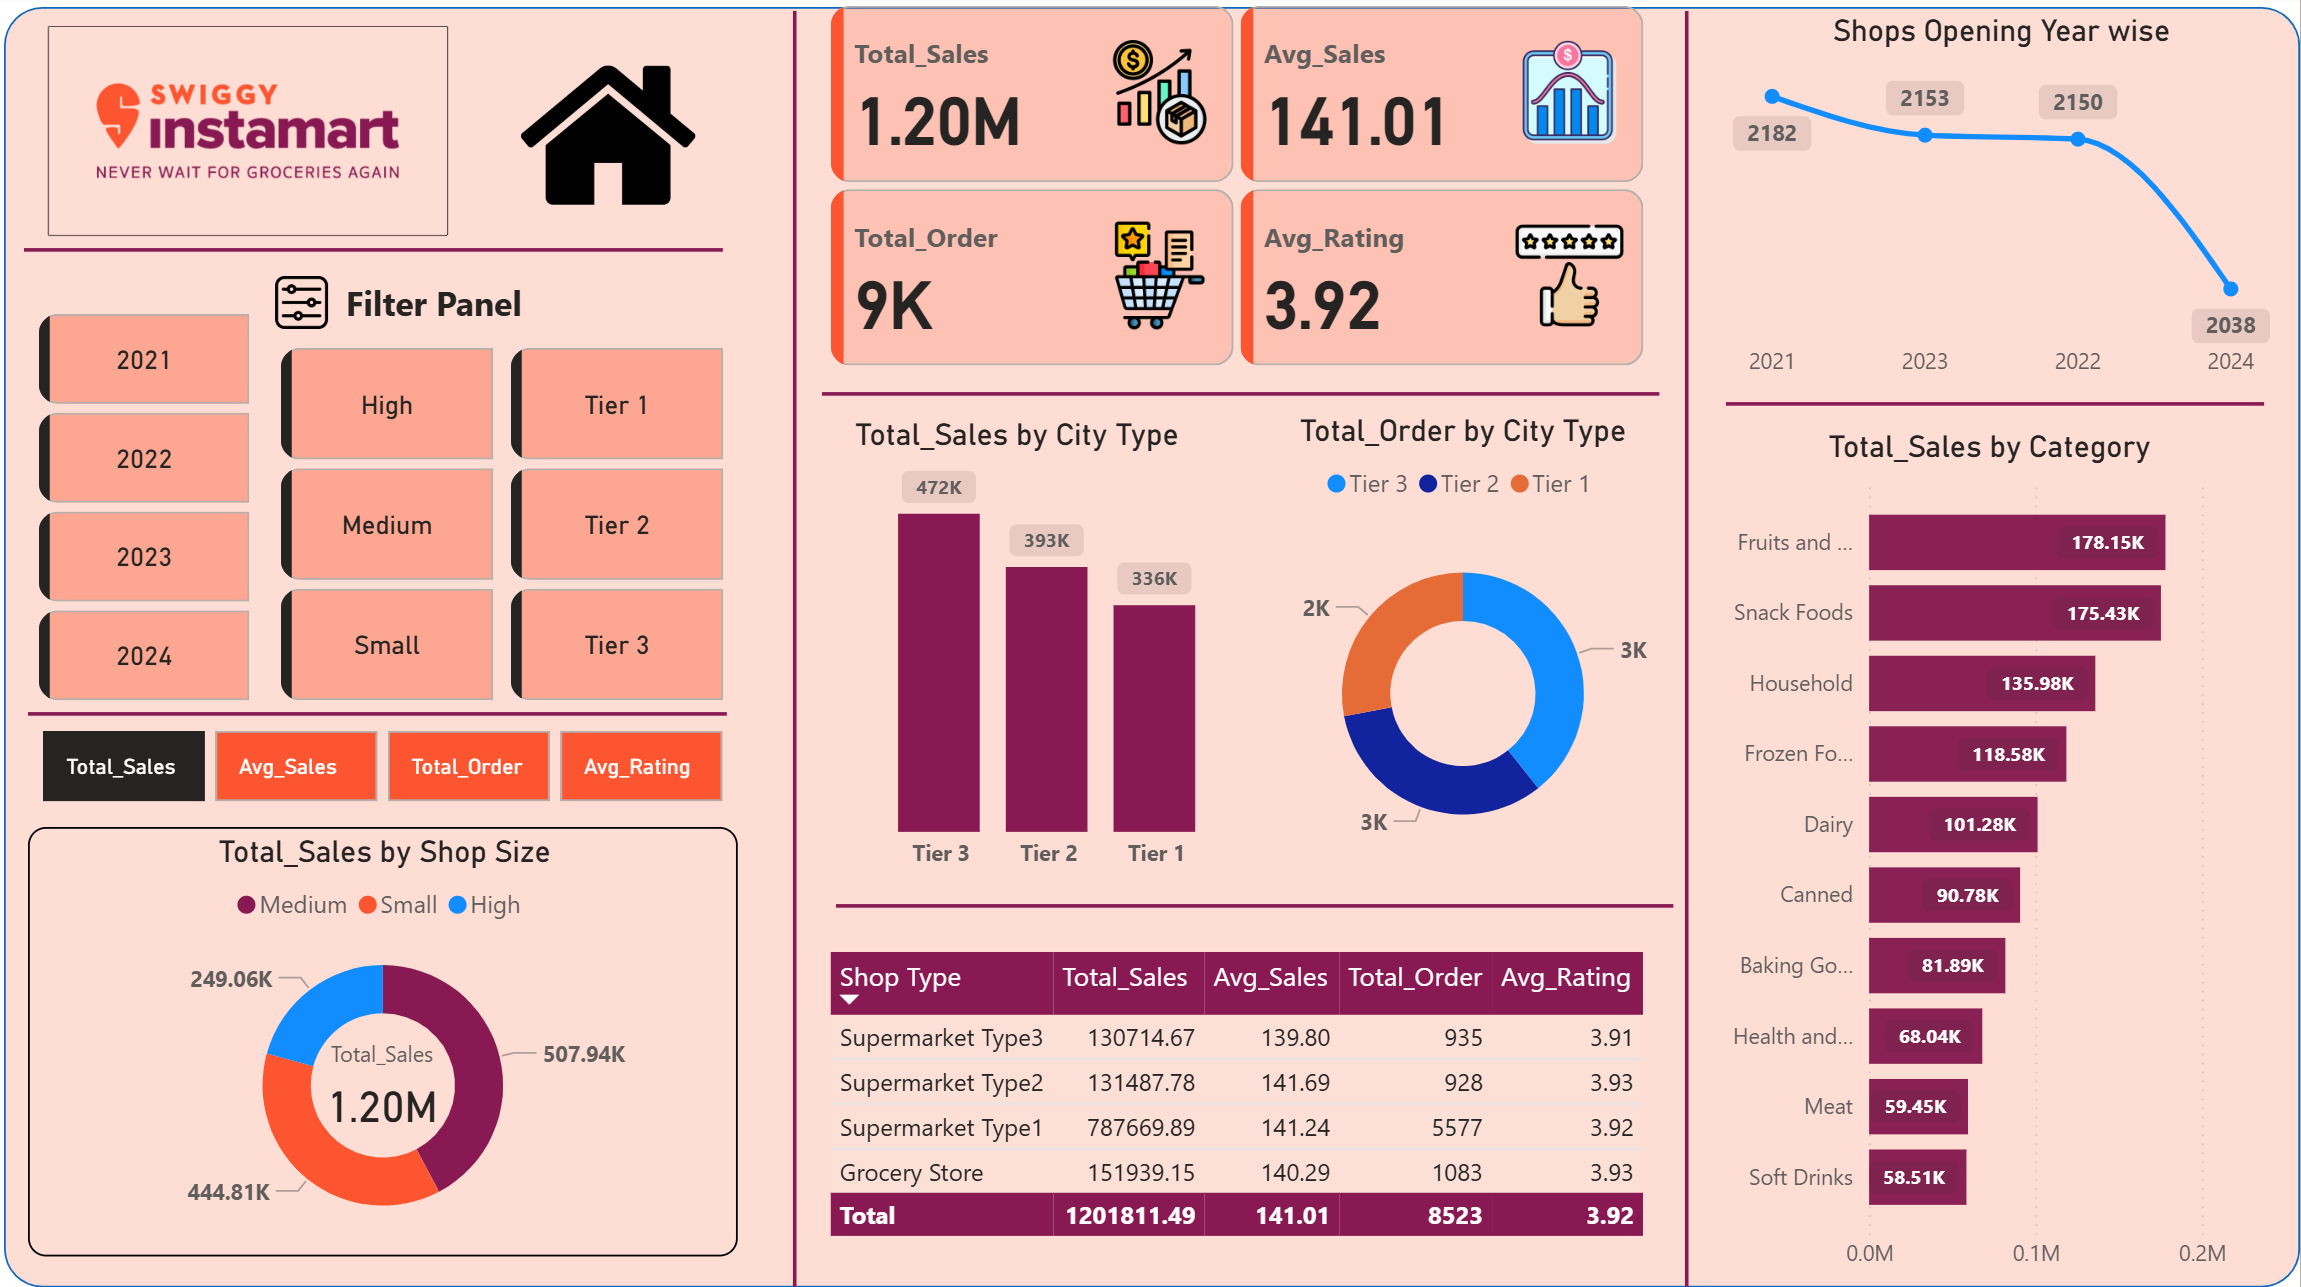

Layout of this report page (visuals, bound fields, positions):
{"tool":"powerbi","page":{"name":"INSTA MART DASHBOARD","canvas":[1280,720],"ordinal":0},"visuals":[{"type":"shape","box":[2.2,7.4,1277.8,712.6],"z":0},{"type":"image","box":[15.7,13.3,244.7,126.8],"z":1000},{"type":"cardVisual","fields":{"Data":["Grocery Shop.Total_Sales","Grocery Shop.Avg_Sales","Grocery Shop.Total_Order","Grocery Shop.Avg_Rating"]},"box":[457.7,2.4,462.6,210.2],"z":2000},{"type":"advancedSlicerVisual","fields":{"Values":["Metric.Metric"]},"box":[19.3,410.6,391.3,39.9],"z":3000},{"type":"donutChart","fields":{"Y":["Grocery Shop.Avg_Rating"],"Category":["Grocery Shop.Shop Size"]},"box":[15.7,464,394.9,238.9],"z":4000},{"type":"cardVisual","fields":{"Data":["Grocery Shop.Avg_Rating"]},"box":[143.7,556.8,138.9,102.7],"z":5000},{"type":"clusteredColumnChart","title":"Total_Sales by City Type","fields":{"Category":["Grocery Shop.Shop City Type"],"Y":["Grocery Shop.Total_Sales"]},"box":[471,235.5,225.9,260.9],"z":6000},{"type":"donutChart","title":"Total_Order by City Type","fields":{"Category":["Grocery Shop.Shop City Type"],"Y":["Grocery Shop.Total_Order"]},"box":[701.7,234.1,225.9,263.5],"z":7000},{"type":"tableEx","fields":{"Values":["Grocery Shop.Shop Type","Grocery Shop.Total_Sales","Grocery Shop.Avg_Sales","Grocery Shop.Total_Order","Grocery Shop.Avg_Rating"]},"box":[456.5,529,474.7,182.4],"z":8000},{"type":"lineChart","title":"Shops Opening Year wise","fields":{"Category":["Grocery Shop.Shop Opening Year"],"Y":["Grocery Shop.Total_Order"]},"box":[946.9,11.6,333.3,211.8],"z":9000},{"type":"clusteredBarChart","fields":{"Y":["Grocery Shop.Total_Sales"],"Category":["Grocery Shop.Category"]},"box":[946.9,242.8,320.1,477.1],"z":10000},{"type":"advancedSlicerVisual","fields":{"Values":["Grocery Shop.Shop Opening Year"]},"box":[16.6,173.4,127.5,228.2],"z":11000},{"type":"advancedSlicerVisual","fields":{"Values":["Grocery Shop.Shop Size"]},"box":[151.7,193,128,207.7],"z":12000},{"type":"advancedSlicerVisual","fields":{"Values":["Grocery Shop.Shop City Type"]},"box":[279.7,193,128,207.7],"z":13000},{"type":"textbox","box":[151.7,154.3,178.5,38.2],"z":14000},{"type":"image","box":[144.1,153,48.4,39.5],"z":15000},{"type":"image","box":[285,25.4,106.8,106.8],"z":18000},{"type":"shape","box":[13.5,122.5,388.9,41.1],"z":19000},{"type":"shape","box":[15.7,380.5,388.9,41.1],"z":20000},{"type":"shape","box":[422.7,9.7,38.6,710.2],"z":21000},{"type":"shape","box":[919.1,9.7,38.6,710.2],"z":22000},{"type":"shape","box":[960.2,207.7,299.5,41.1],"z":23000},{"type":"shape","box":[465,487.9,466.2,41.1],"z":24000},{"type":"shape","box":[457.7,202.9,466.2,41.1],"z":25000}]}

Visuals, with their boxes in screenshot pixels (x1, y1, x2, y2), scaled from the page's 1280x720 canvas onto the 2301x1287 screenshot:
shape: detection(4, 13, 2300, 1286)
image: detection(28, 24, 468, 250)
cardVisual - Grocery Shop.Total_Sales x Grocery Shop.Avg_Sales: detection(823, 4, 1654, 380)
advancedSlicerVisual - Metric.Metric: detection(35, 734, 738, 805)
donutChart - Grocery Shop.Avg_Rating x Grocery Shop.Shop Size: detection(28, 829, 738, 1256)
cardVisual - Grocery Shop.Avg_Rating: detection(258, 995, 508, 1179)
"Total_Sales by City Type" clusteredColumnChart: detection(847, 421, 1253, 887)
"Total_Order by City Type" donutChart: detection(1261, 418, 1668, 889)
tableEx - Grocery Shop.Shop Type x Grocery Shop.Total_Sales: detection(821, 946, 1674, 1272)
"Shops Opening Year wise" lineChart: detection(1702, 21, 2300, 399)
clusteredBarChart - Grocery Shop.Total_Sales x Grocery Shop.Category: detection(1702, 434, 2278, 1286)
advancedSlicerVisual - Grocery Shop.Shop Opening Year: detection(30, 310, 259, 718)
advancedSlicerVisual - Grocery Shop.Shop Size: detection(273, 345, 503, 716)
advancedSlicerVisual - Grocery Shop.Shop City Type: detection(503, 345, 733, 716)
textbox: detection(273, 276, 594, 344)
image: detection(259, 273, 346, 344)
image: detection(512, 45, 704, 236)
shape: detection(24, 219, 723, 292)
shape: detection(28, 680, 727, 754)
shape: detection(760, 17, 829, 1286)
shape: detection(1652, 17, 1722, 1286)
shape: detection(1726, 371, 2265, 445)
shape: detection(836, 872, 1674, 946)
shape: detection(823, 363, 1661, 436)
